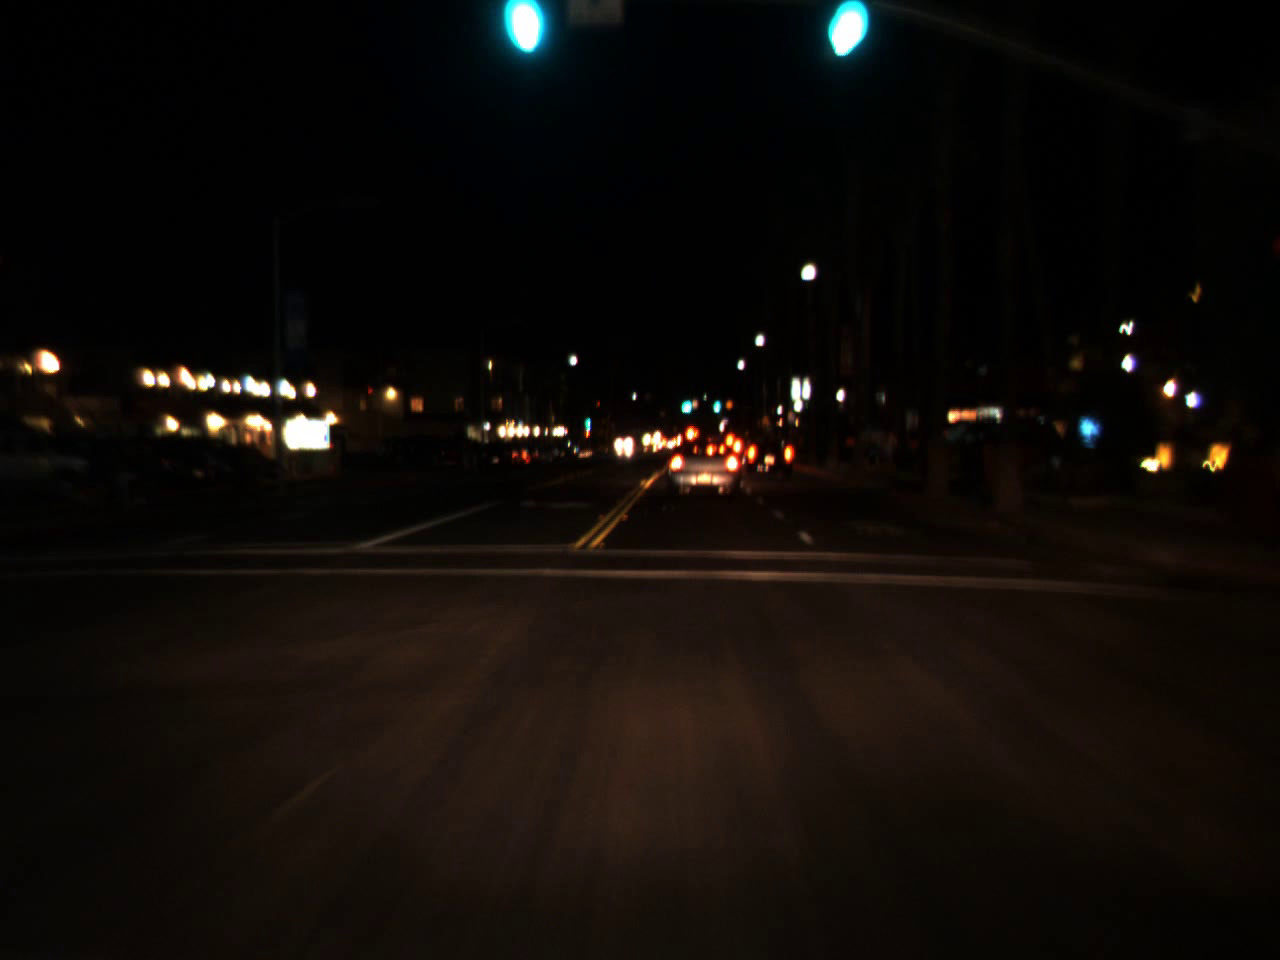go: (821, 0, 864, 61), (503, 0, 542, 54), (677, 387, 693, 417), (711, 390, 721, 414), (584, 403, 591, 433)
